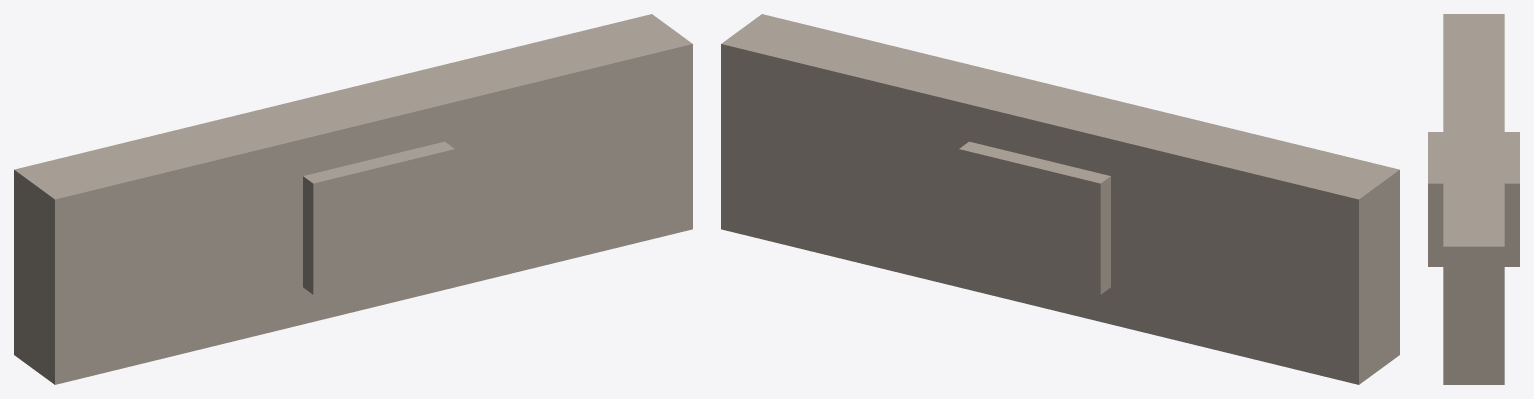
The model's file is breach.gltf.
3 views of the same model, side by side, from view 1: azimuth 30°, elevation 25°; view 2: azimuth 150°, elevation 25°; view 3: azimuth 270°, elevation 25° (orthographic). The views are drawn at different scales.
Bounding box in the file's own units: 36 × 10 × 6.
